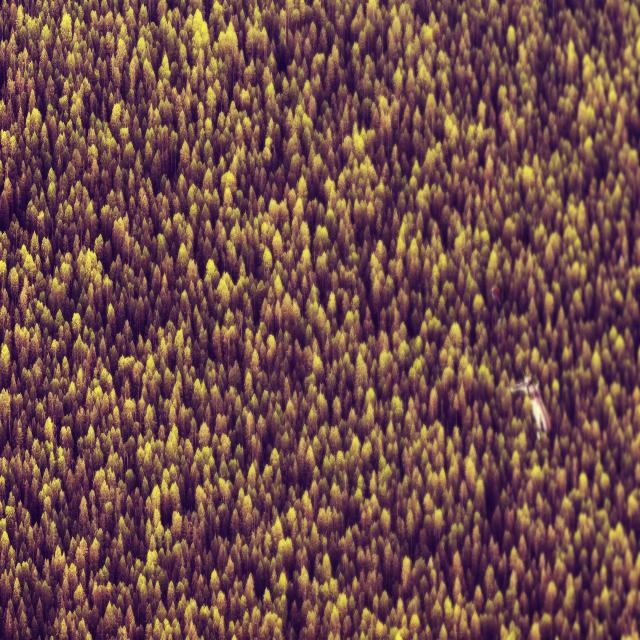airplane: (510, 373, 551, 439), (490, 281, 504, 306)
